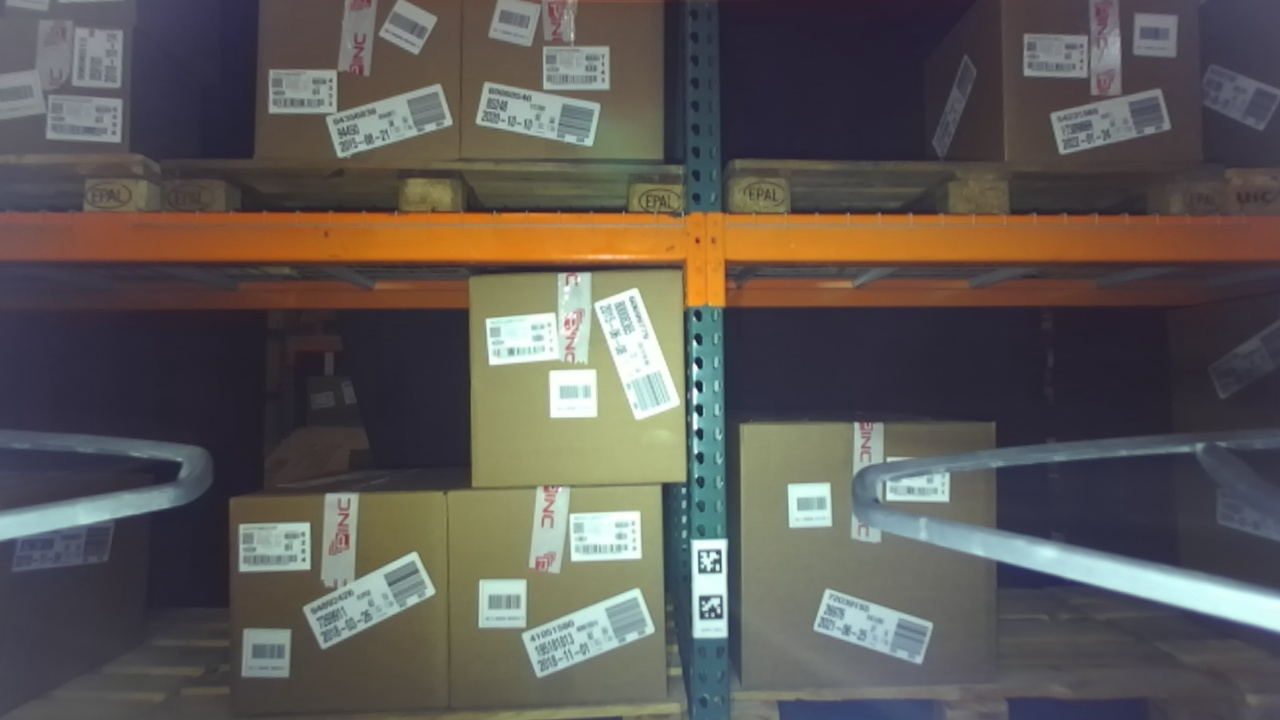box: (725, 404, 1015, 713), (446, 256, 715, 504), (417, 474, 690, 714), (217, 464, 467, 711), (981, 1, 1228, 198), (232, 4, 477, 190), (445, 3, 677, 188)
